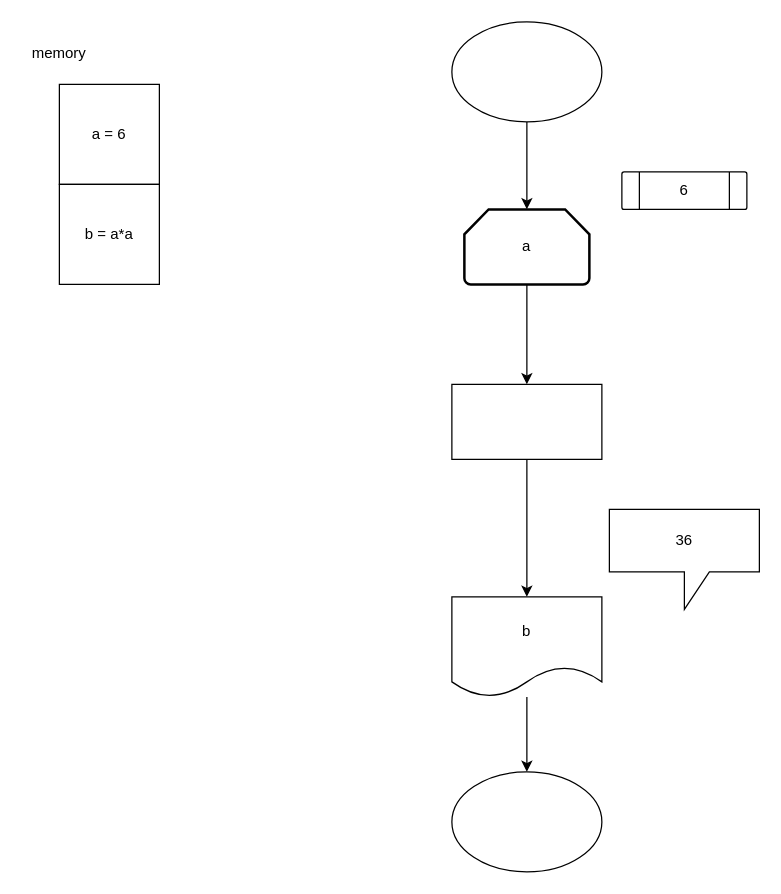
Image size: 781x894. Some labels were removed from this diagram. The shapes that lost their labels are listed below. From the top down, each one's box as (x1, y1, x2, y2) in pixels, then its label:
(451, 21, 602, 122): START
(451, 383, 602, 459): a * a = b
(451, 771, 602, 872): STOP
